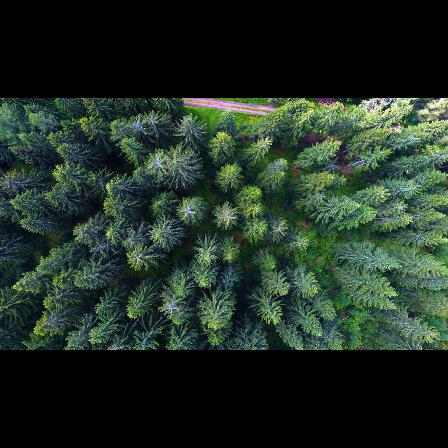Sick: (161, 290, 184, 318), (177, 200, 199, 224), (130, 117, 145, 132), (146, 113, 161, 126)
